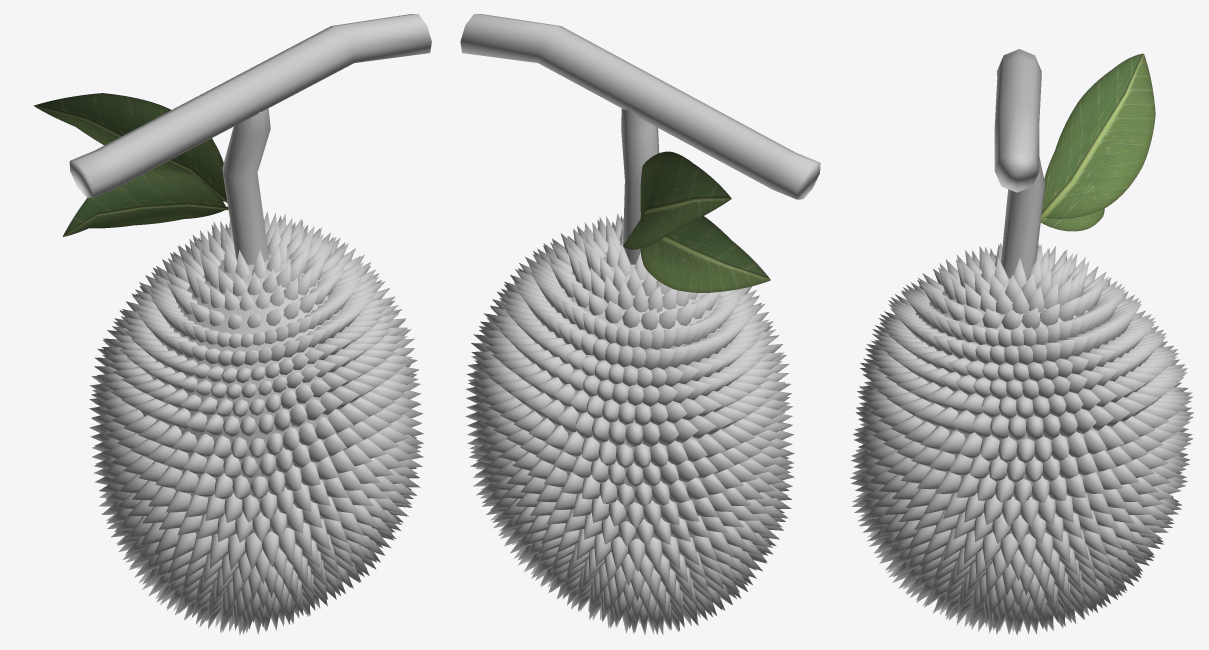
Rendered from Durian.fbx.
3 renders of one model, left to right at view 1: azimuth 30°, elevation 25°; view 2: azimuth 150°, elevation 25°; view 3: azimuth 270°, elevation 25°, orthographic.
Visible parts, largest first — view 1: polySurface792, pCylinder3, pSphere1, pPlane2, pPlane1, pCylinder1; view 2: polySurface792, pCylinder3, pPlane2, pPlane1, pCylinder1, pSphere1; view 3: polySurface792, pPlane1, pCylinder3, pCylinder1, pSphere1, pPlane2.
Part boxes in pixels (x1=…): polySurface792: x1=89, y1=211, x2=423, y2=635; pCylinder3: x1=69, y1=14, x2=431, y2=197; pSphere1: x1=141, y1=255, x2=362, y2=538; pPlane2: x1=62, y1=168, x2=228, y2=236; pPlane1: x1=33, y1=93, x2=227, y2=202; pCylinder1: x1=222, y1=108, x2=270, y2=264; polySurface792: x1=465, y1=213, x2=794, y2=635; pCylinder3: x1=460, y1=14, x2=820, y2=199; pPlane2: x1=640, y1=216, x2=770, y2=292; pPlane1: x1=623, y1=151, x2=731, y2=249; pCylinder1: x1=621, y1=108, x2=659, y2=264; pSphere1: x1=555, y1=252, x2=744, y2=554; polySurface792: x1=850, y1=242, x2=1193, y2=635; pPlane1: x1=1040, y1=53, x2=1155, y2=222; pCylinder3: x1=994, y1=49, x2=1041, y2=192; pCylinder1: x1=1001, y1=157, x2=1044, y2=278; pSphere1: x1=913, y1=274, x2=1133, y2=561; pPlane2: x1=1041, y1=208, x2=1104, y2=231.
Bounding box in the file's own units: 2.81 × 4.42 × 2.43.
